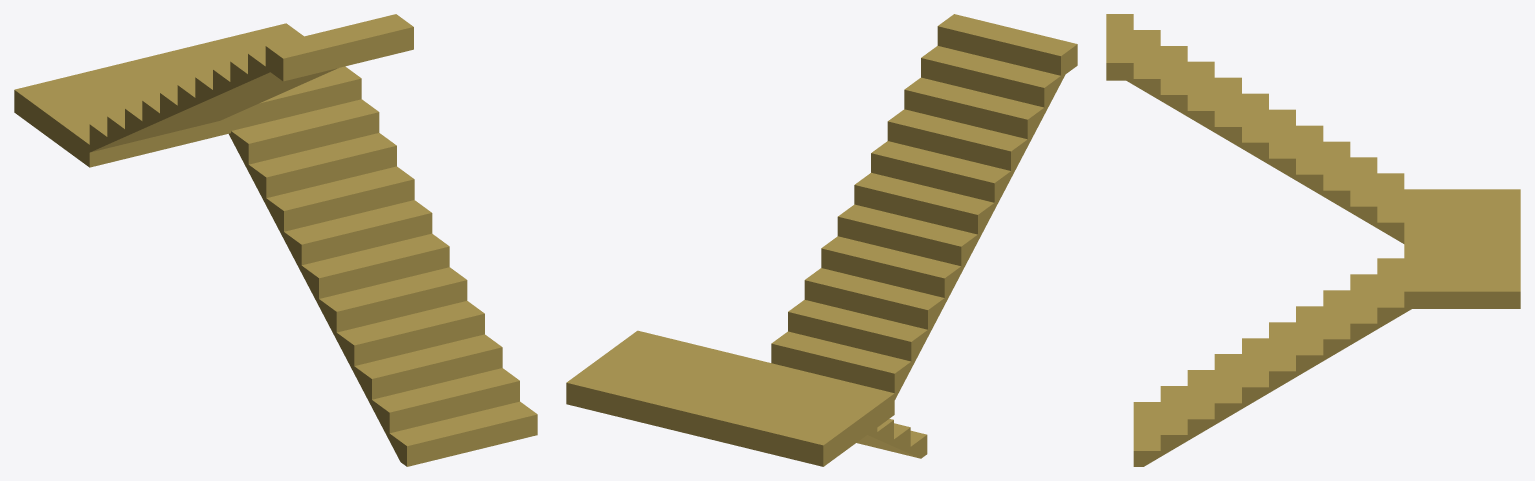
Rendered from arch_stair_u_f400.glb.
3 renders of one model, left to right at view 1: azimuth 30°, elevation 25°; view 2: azimuth 150°, elevation 25°; view 3: azimuth 270°, elevation 25°, orthographic. The views are drawn at different scales.
Visible parts, largest first — view 1: Stair; view 2: Stair; view 3: Stair.
Boxes of the visible parts, x1=… form: Stair: x1=14, y1=14, x2=537, y2=466; Stair: x1=566, y1=14, x2=1077, y2=466; Stair: x1=1106, y1=14, x2=1520, y2=466.
Size of what is drawn, in the model's own units: 2.5 by 4 by 4.28.
